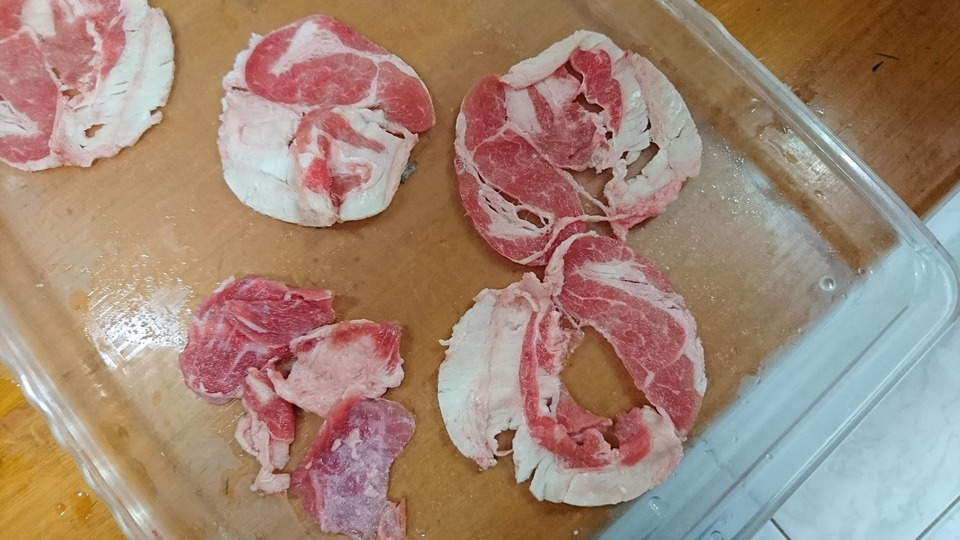restructured meat: (171, 270, 425, 540), (436, 270, 710, 509), (459, 22, 700, 265), (220, 15, 431, 230), (1, 1, 177, 178)
